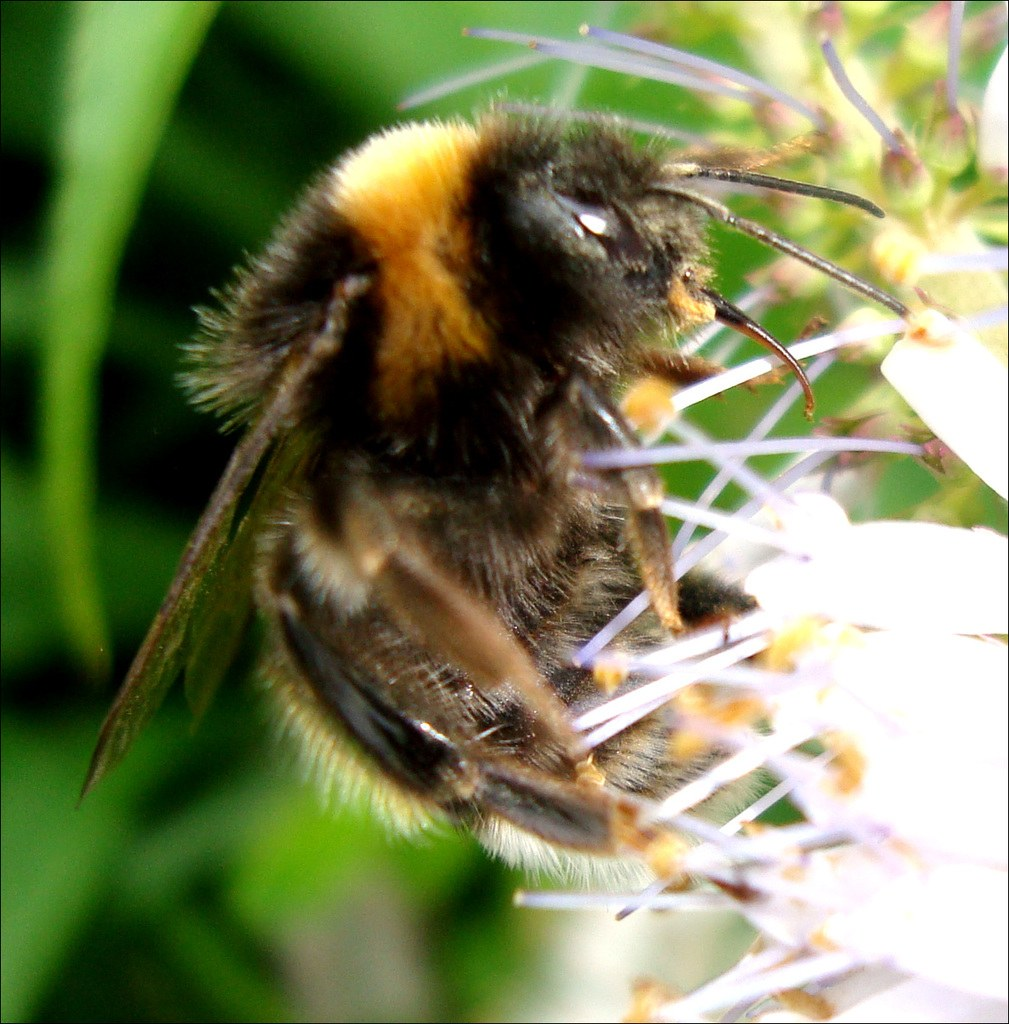bee: (71, 89, 920, 889)
